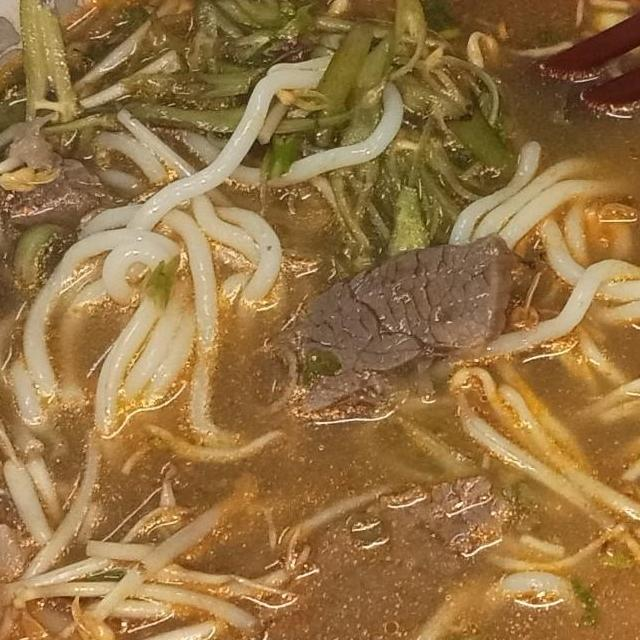bun: (0, 39, 411, 470), (437, 125, 640, 534)
bun bo: (0, 0, 640, 640)
thit bo: (175, 464, 548, 640), (268, 223, 522, 430), (0, 107, 119, 254), (0, 469, 35, 626)
